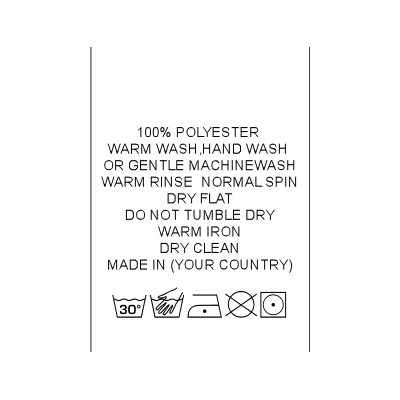do_not_dry_clean: (223, 289, 259, 320)
